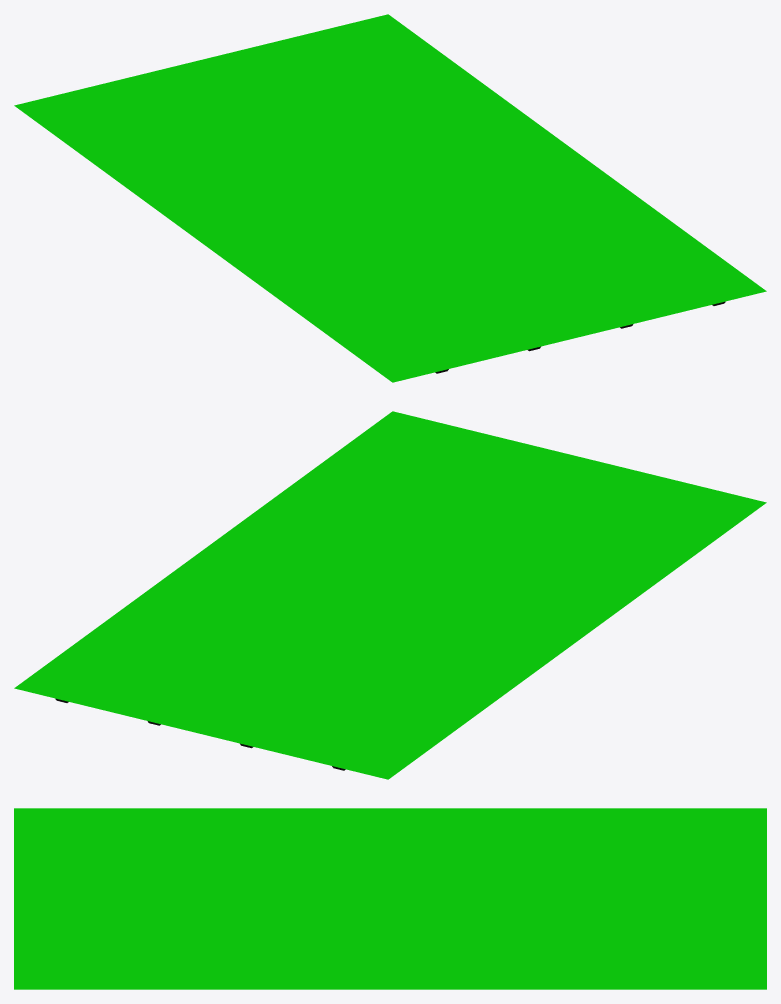
Rendered from staticMesh_Roof.fbx.
The picture shows the model from 3 angles, top to bottom: view 1: azimuth 30°, elevation 25°; view 2: azimuth 150°, elevation 25°; view 3: azimuth 270°, elevation 25°; orthographic projection.
Parts seen in each view (by area): view 1: polySurface3; view 2: polySurface3; view 3: polySurface3.
Boxes of the visible parts, box(x1,y1,x2,y2) form: polySurface3: box(14, 14, 766, 382); polySurface3: box(14, 411, 766, 779); polySurface3: box(14, 808, 766, 989).
Size of the model in its own units: 204 by 0.9775 by 358.
